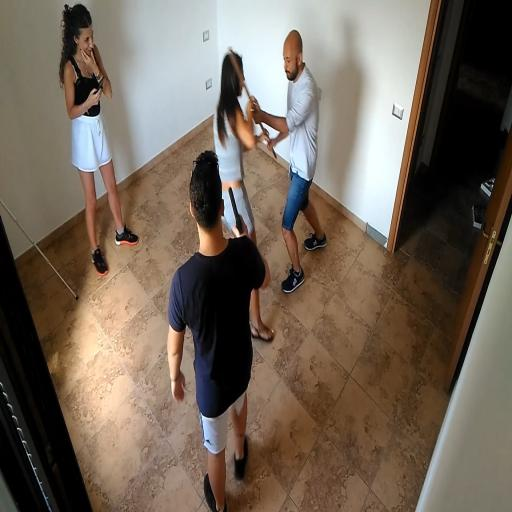violencia: (195, 22, 337, 306)
